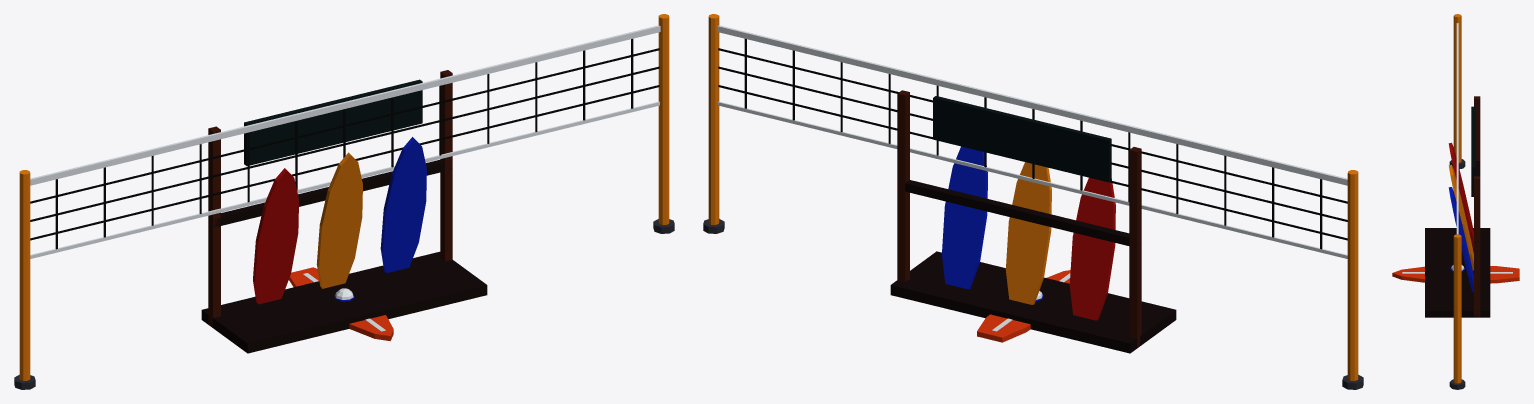
The model's file is beach_sports.glb.
3 views of the same model, side by side, from view 1: azimuth 30°, elevation 25°; view 2: azimuth 150°, elevation 25°; view 3: azimuth 270°, elevation 25° (orthographic). The views are drawn at different scales.
Visible parts, largest first — view 1: SM_BS_Rack, SM_BS_Net, SM_BS_Board; view 2: SM_BS_Rack, SM_BS_Net, SM_BS_Board; view 3: SM_BS_Rack, SM_BS_Net, SM_BS_Board.
Boxes of the visible parts, x1,y1,x2,y2 form: SM_BS_Rack: (201,70,487,353); SM_BS_Net: (14,14,674,389); SM_BS_Board: (289,267,393,341); SM_BS_Rack: (890,90,1176,353); SM_BS_Net: (703,14,1363,389); SM_BS_Board: (977,270,1070,342); SM_BS_Rack: (1425,96,1490,317); SM_BS_Net: (1449,14,1465,389); SM_BS_Board: (1392,266,1519,283).
Bounding box in the file's own units: 8.24 × 2.55 × 1.95.
4 materials, 4 textured.
